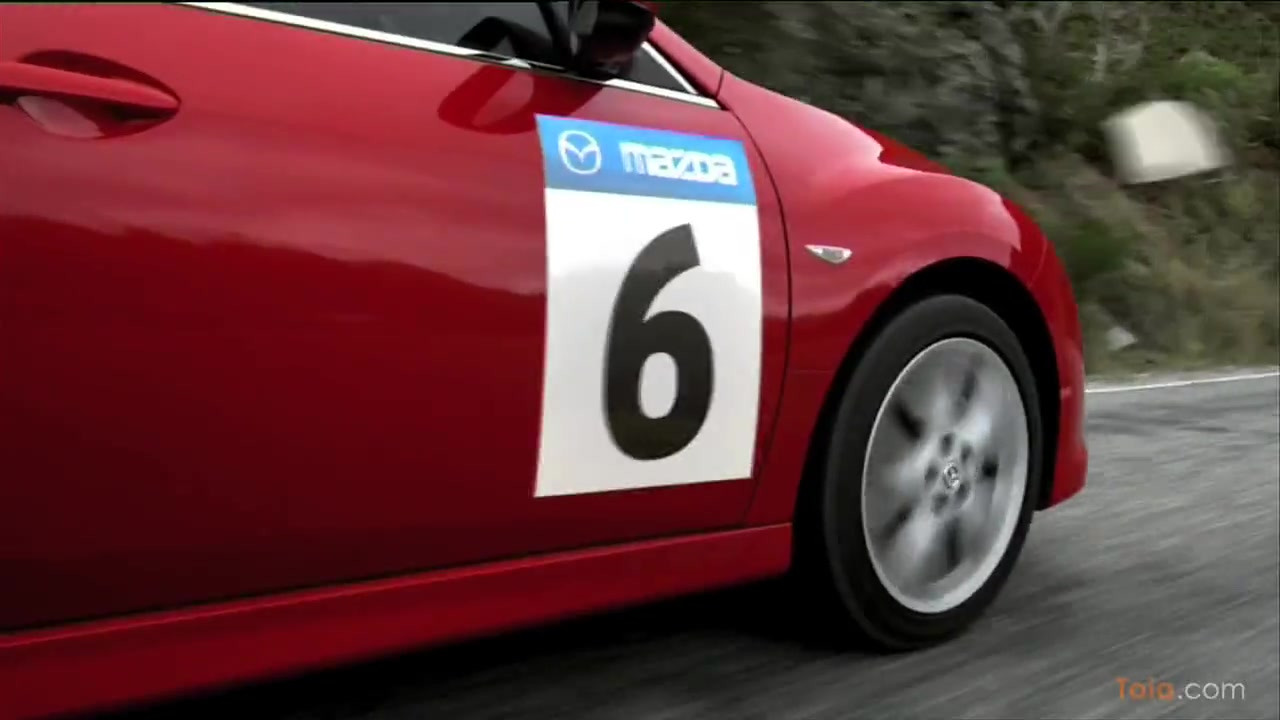car: (1, 1, 1089, 715)
